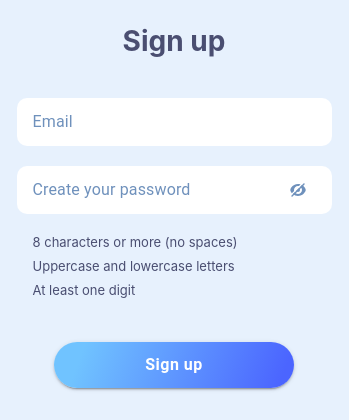
Test: SignUpPage › should show error for invalid email
Step 1. Type "invalid-email" into the field with placeholder "Email" → (174, 122), box [16,102,332,142]
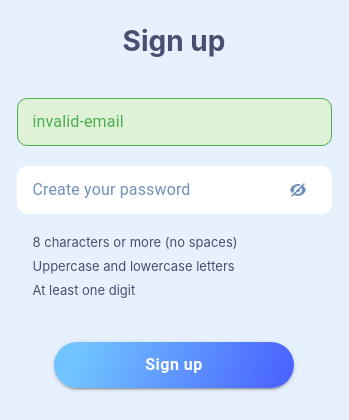
Step 2. Leave the field with placeholder "Email", box [16,102,332,142]
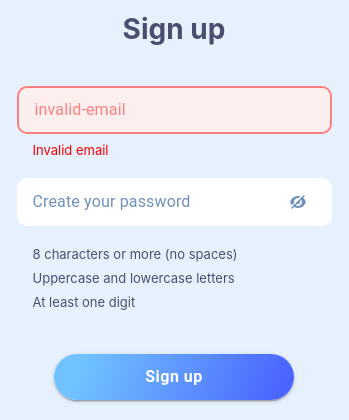
Now the text "Invalid email" is shown, box [32,142,108,158]
